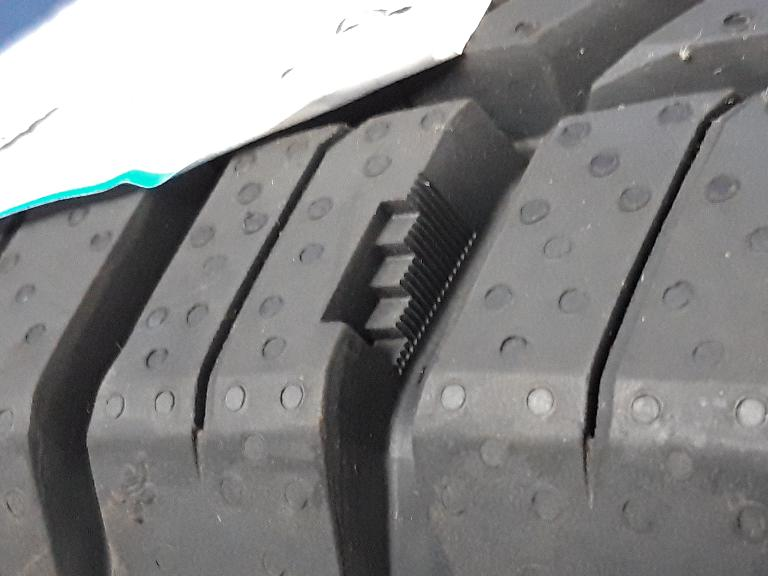temoin:100: (307, 162, 488, 389)
